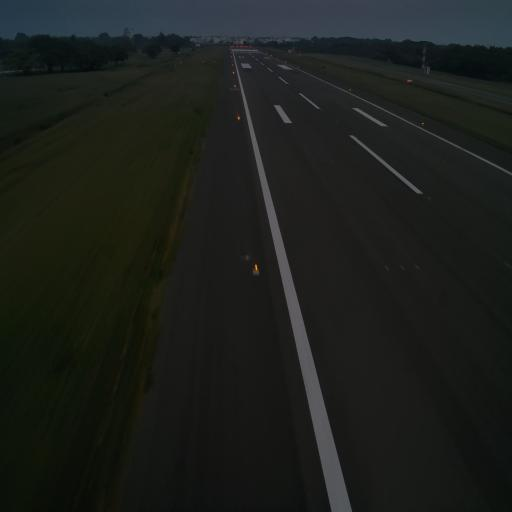off: (503, 259, 512, 275), (383, 261, 391, 275), (398, 261, 406, 272), (426, 193, 434, 204), (414, 260, 420, 274), (330, 157, 334, 164), (312, 157, 316, 162), (320, 158, 324, 162)
on: (251, 263, 259, 276), (421, 120, 425, 126)
